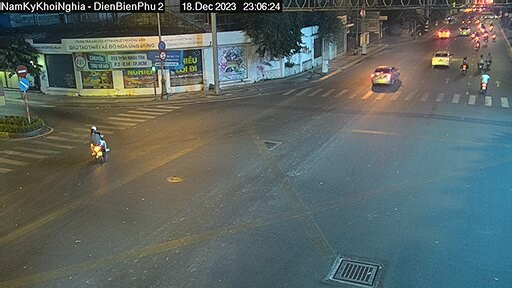car: (368, 60, 400, 89), (431, 48, 453, 71), (438, 26, 449, 41), (459, 24, 471, 37)
motorbike: (80, 127, 117, 161), (473, 70, 500, 98), (479, 49, 499, 67), (458, 54, 470, 72)
